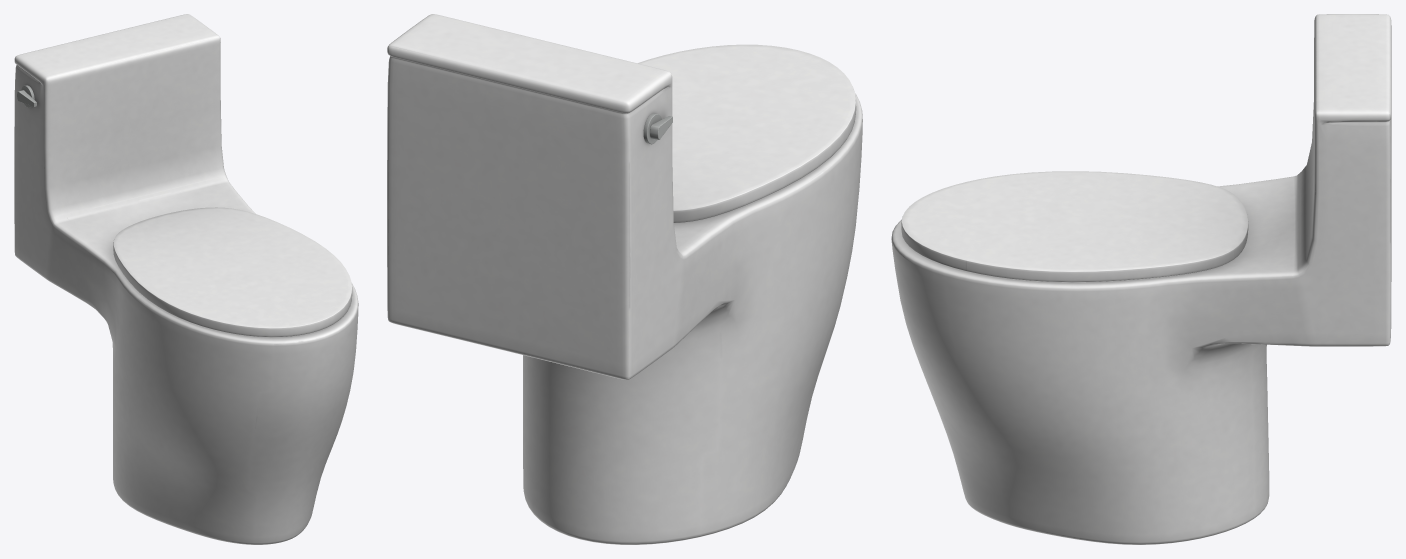
The model's file is Sanitary ware _001.gltf.
3 views of the same model, side by side, from view 1: azimuth 30°, elevation 25°; view 2: azimuth 150°, elevation 25°; view 3: azimuth 270°, elevation 25° (orthographic). The views are drawn at different scales.
Visible parts, largest first — view 1: Sanitary ware _001; view 2: Sanitary ware _001; view 3: Sanitary ware _001.
Boxes of the visible parts, x1,y1,x2,y2 form: Sanitary ware _001: [14, 14, 358, 544]; Sanitary ware _001: [387, 14, 862, 544]; Sanitary ware _001: [891, 14, 1391, 544].
Bounding box in the file's own units: 0.3581 × 0.6801 × 0.7023.
1 material, 1 textured.
